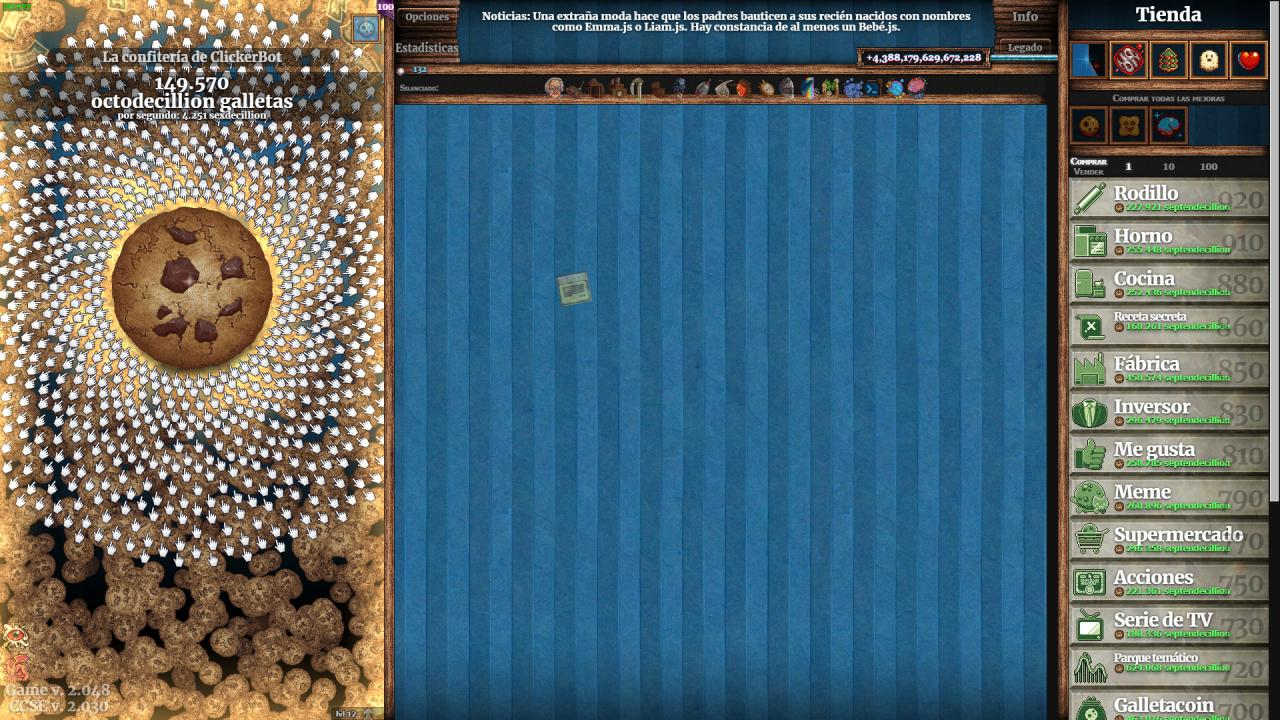GoldenCartridge: (555, 269, 594, 308)
